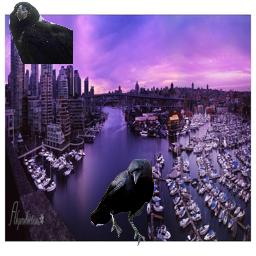Crow: (91, 159, 154, 246), (8, 1, 73, 64)
